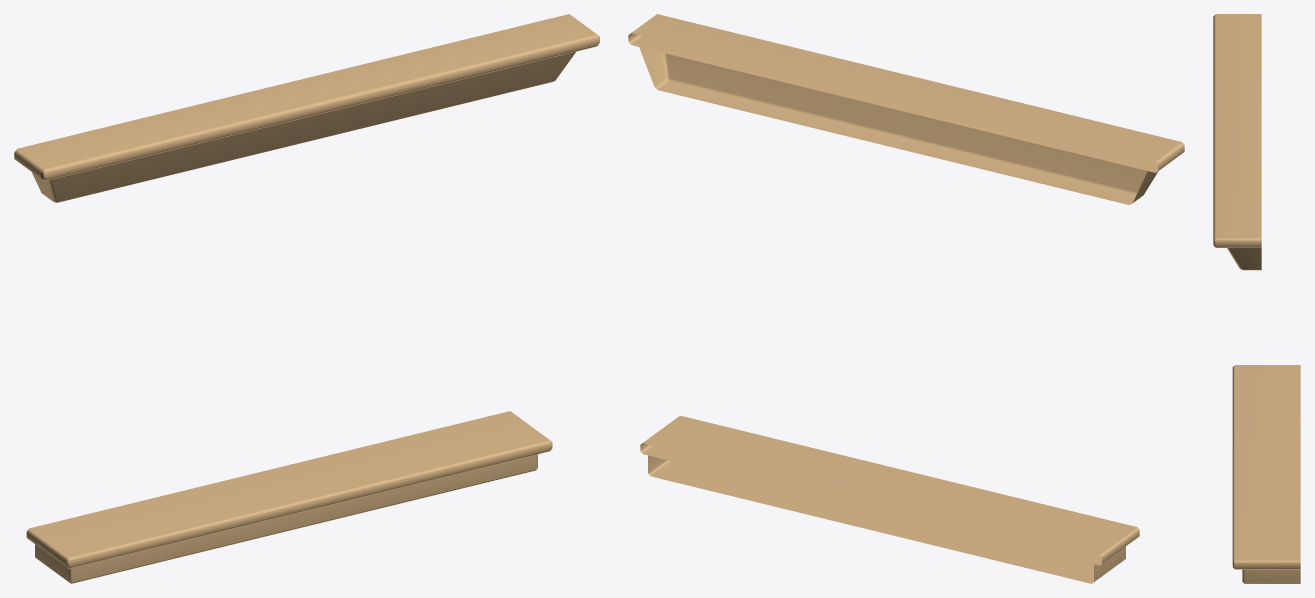
Rendered from DBK_WinDouble_Trim_E_Full.fbx.
3 views of the same model, side by side, from view 1: azimuth 30°, elevation 25°; view 2: azimuth 150°, elevation 25°; view 3: azimuth 270°, elevation 25° (orthographic). The views are drawn at different scales.
Visible parts, largest first — view 1: DBK_WinDouble_Trim_E_Full; view 2: DBK_WinDouble_Trim_E_Full; view 3: DBK_WinDouble_Trim_E_Full.
Part boxes in pixels (x1,y1,x2,y2): DBK_WinDouble_Trim_E_Full: [14, 14, 599, 583]; DBK_WinDouble_Trim_E_Full: [628, 14, 1184, 583]; DBK_WinDouble_Trim_E_Full: [1213, 14, 1300, 583].
Size of the model in its own units: 209 by 157 by 34.1.
